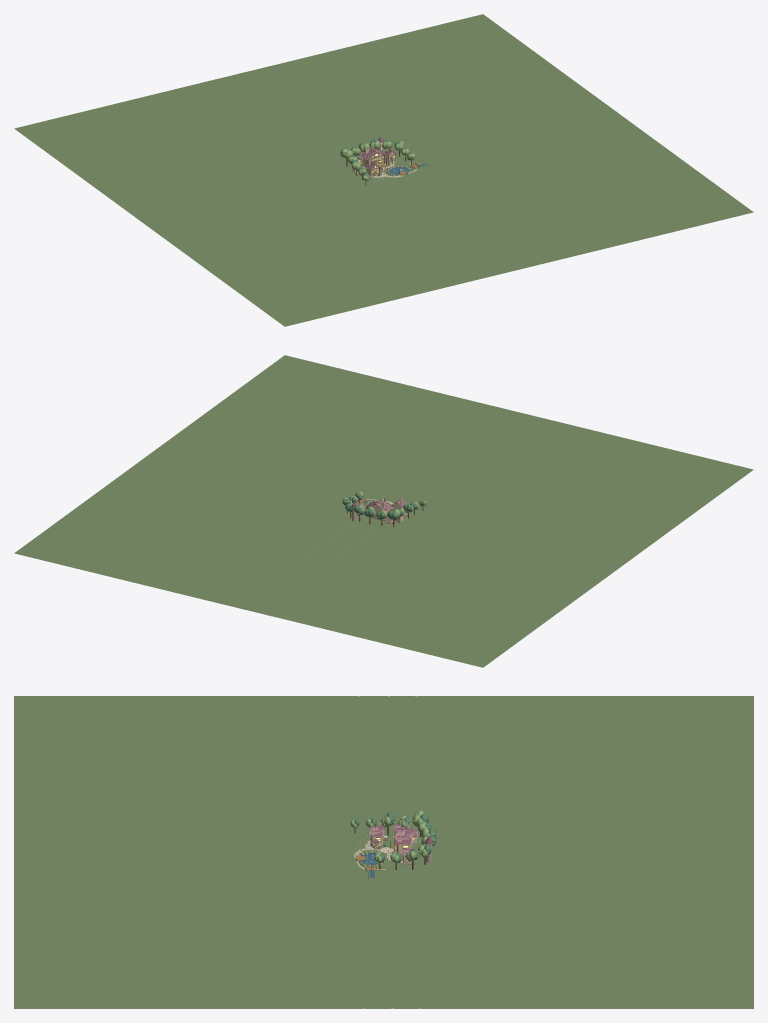
File: village.glb
3 views of the same model, one above another, from view 1: azimuth 30°, elevation 25°; view 2: azimuth 150°, elevation 25°; view 3: azimuth 270°, elevation 25° (orthographic). The views are drawn at different scales.
Parts seen in each view (by area): view 1: Forest hamlet; view 2: Forest hamlet; view 3: Forest hamlet.
Boxes of the visible parts, bbox=[...] form: Forest hamlet: bbox=[14, 14, 753, 326]; Forest hamlet: bbox=[14, 355, 753, 667]; Forest hamlet: bbox=[14, 696, 753, 1008].
Bounding box in the file's own units: 180 × 7.52 × 180.
22 materials, 22 textured.
